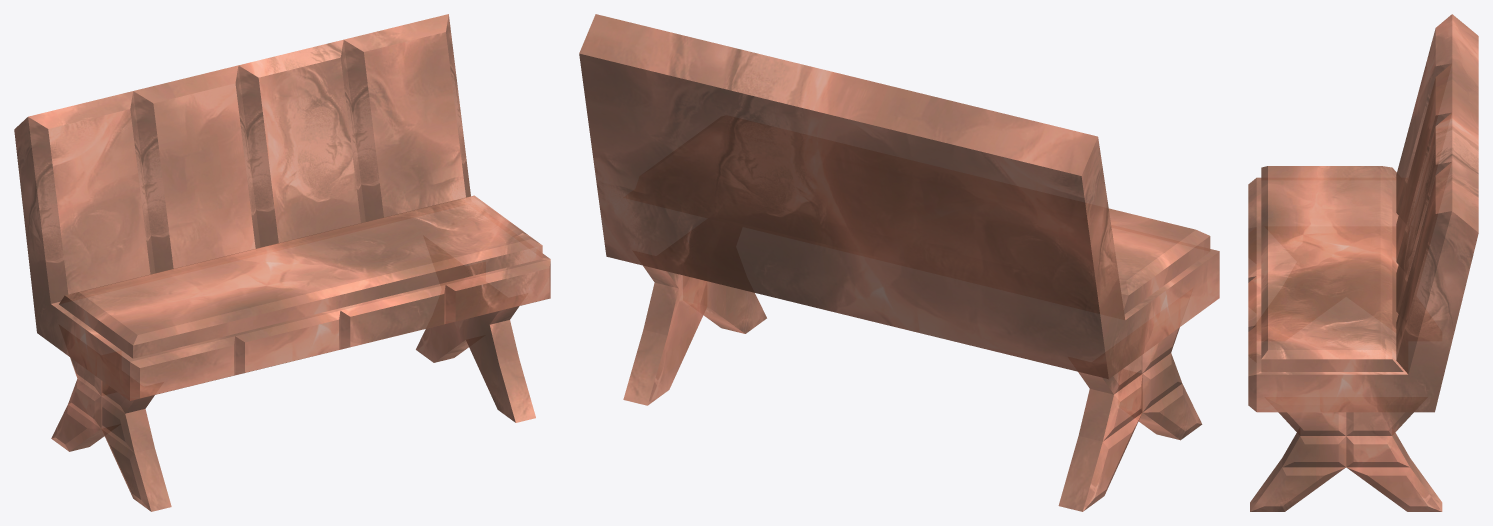
File: salt-crystal-bench-1.glb
3 renders of one model, left to right at view 1: azimuth 30°, elevation 25°; view 2: azimuth 150°, elevation 25°; view 3: azimuth 270°, elevation 25°, orthographic. The views are drawn at different scales.
Parts seen in each view (by area): view 1: sofa; view 2: sofa; view 3: sofa.
Part boxes in pixels (box(x1,y1,x2,y2)): sofa: box(14, 14, 550, 511); sofa: box(579, 14, 1219, 511); sofa: box(1248, 14, 1478, 511).
Size of what is drawn, in the model's own units: 1.97 by 1.45 by 0.9758.
Materials: 1 (1 with a texture image).
